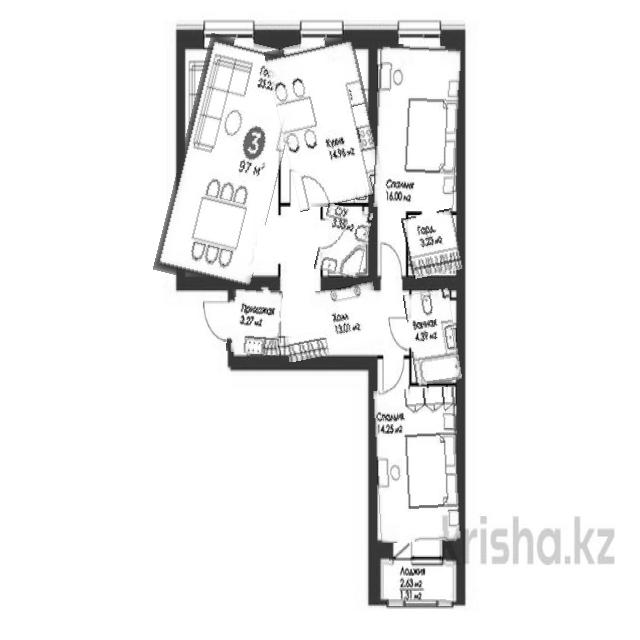balcony: (166, 37, 293, 289), (374, 553, 460, 604)
bathroom: (406, 290, 459, 384), (318, 205, 370, 276)
hallway: (279, 285, 382, 358), (228, 287, 282, 354)
kitchen: (272, 36, 380, 208)
living_room: (374, 44, 459, 210), (375, 387, 460, 542)
other: (404, 211, 461, 277)
